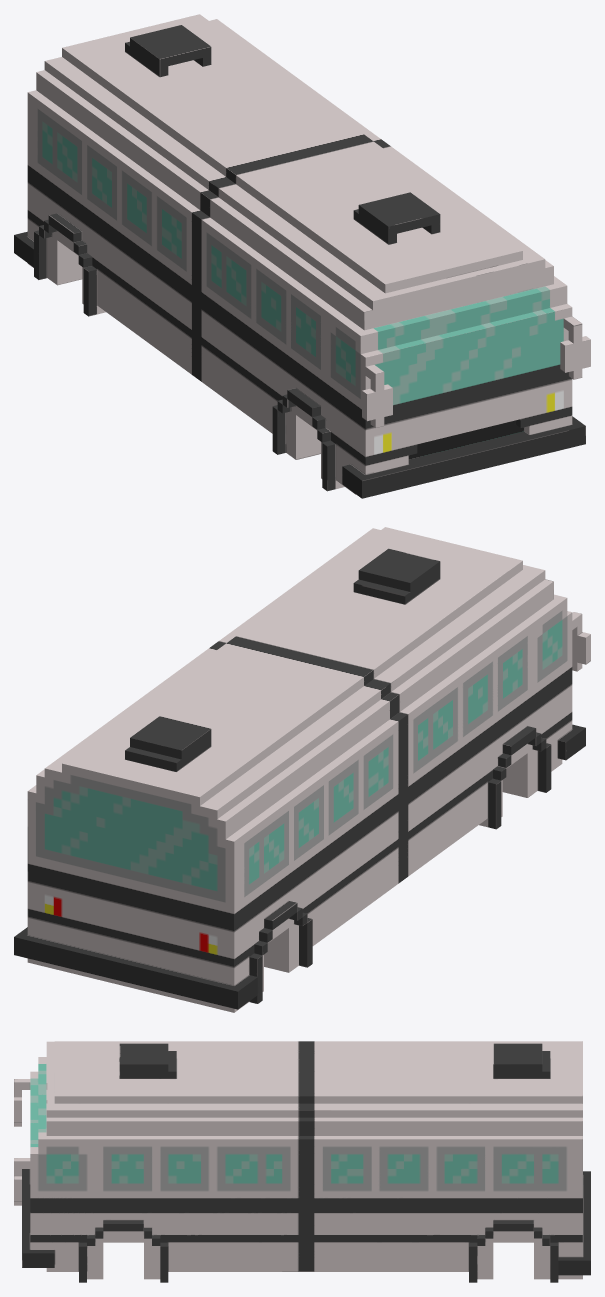
File: Bus_1.obj
3 renders of one model, top to bottom at view 1: azimuth 30°, elevation 25°; view 2: azimuth 150°, elevation 25°; view 3: azimuth 270°, elevation 25°, orthographic. The views are drawn at different scales.
Parts seen in each view (by area): view 1: Bus_1_Bus_1.001; view 2: Bus_1_Bus_1.001; view 3: Bus_1_Bus_1.001.
Part boxes in pixels (<box>): Bus_1_Bus_1.001: <box>14,14,590,498</box>; Bus_1_Bus_1.001: <box>14,527,590,1012</box>; Bus_1_Bus_1.001: <box>14,1041,590,1282</box>.
Size of the model in its own units: 2.6 by 2.5 by 7.1.
